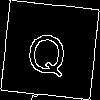Q: (25, 24, 69, 78)
